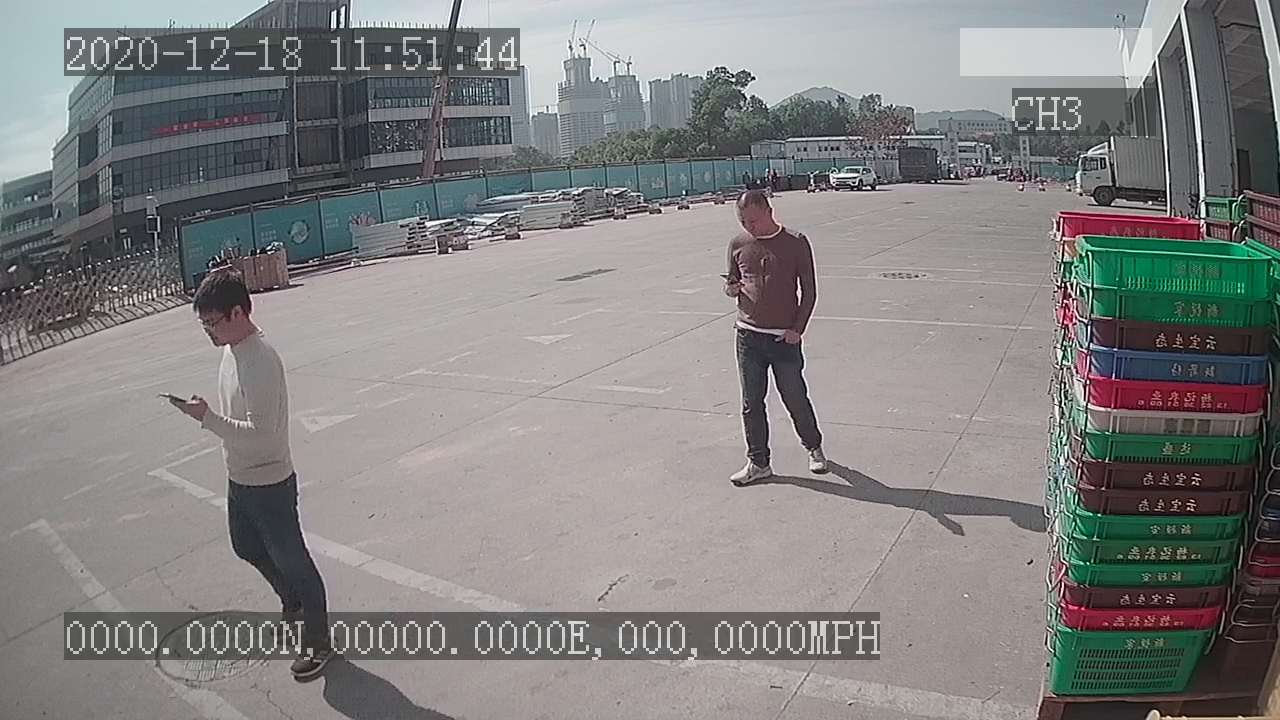person: (717, 181, 833, 494)
